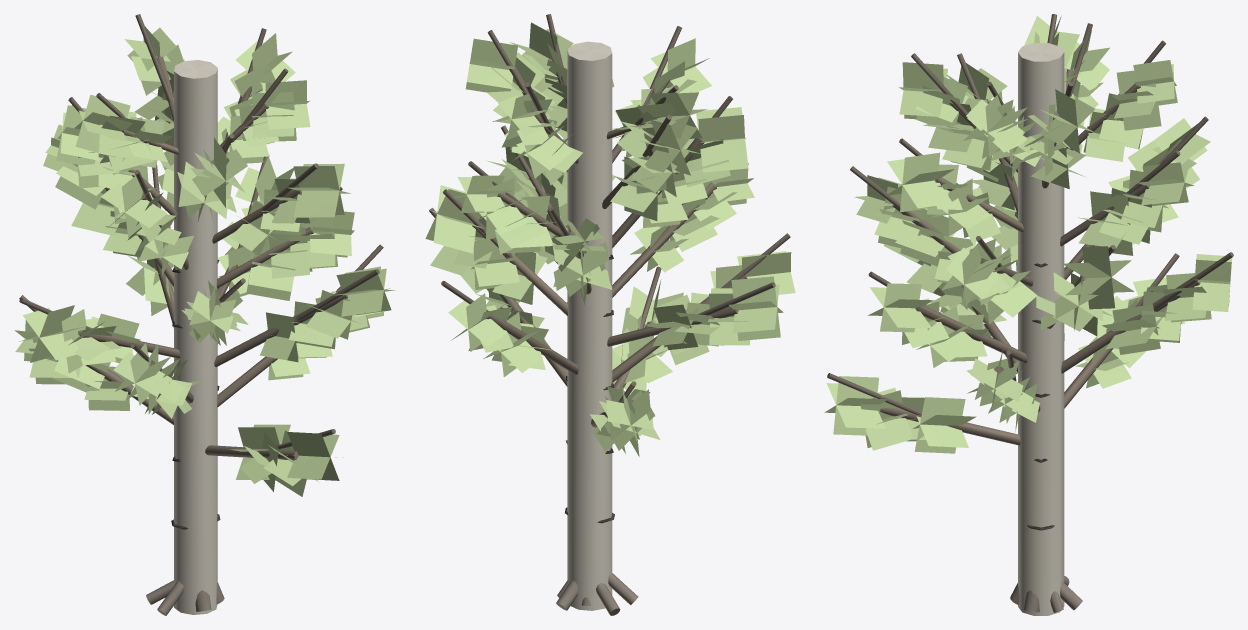
File: mature-lod1.glb
3 views of the same model, side by side, from view 1: azimuth 30°, elevation 25°; view 2: azimuth 150°, elevation 25°; view 3: azimuth 270°, elevation 25° (orthographic). The views are drawn at different scales.
Parts seen in each view (by area): view 1: birch-leaf-sprays, birch-bark-branches-buried-roots-ground-blend; view 2: birch-leaf-sprays, birch-bark-branches-buried-roots-ground-blend; view 3: birch-leaf-sprays, birch-bark-branches-buried-roots-ground-blend.
Part boxes in pixels (left/top/right/bottom): birch-leaf-sprays: left=15, top=26, right=395, bottom=496; birch-bark-branches-buried-roots-ground-blend: left=19, top=14, right=383, bottom=615; birch-leaf-sprays: left=425, top=22, right=795, bottom=456; birch-bark-branches-buried-roots-ground-blend: left=429, top=14, right=790, bottom=615; birch-leaf-sprays: left=824, top=16, right=1232, bottom=453; birch-bark-branches-buried-roots-ground-blend: left=827, top=14, right=1233, bottom=615.
Size of the model in its own units: 13.78 by 20.53 by 13.45.
